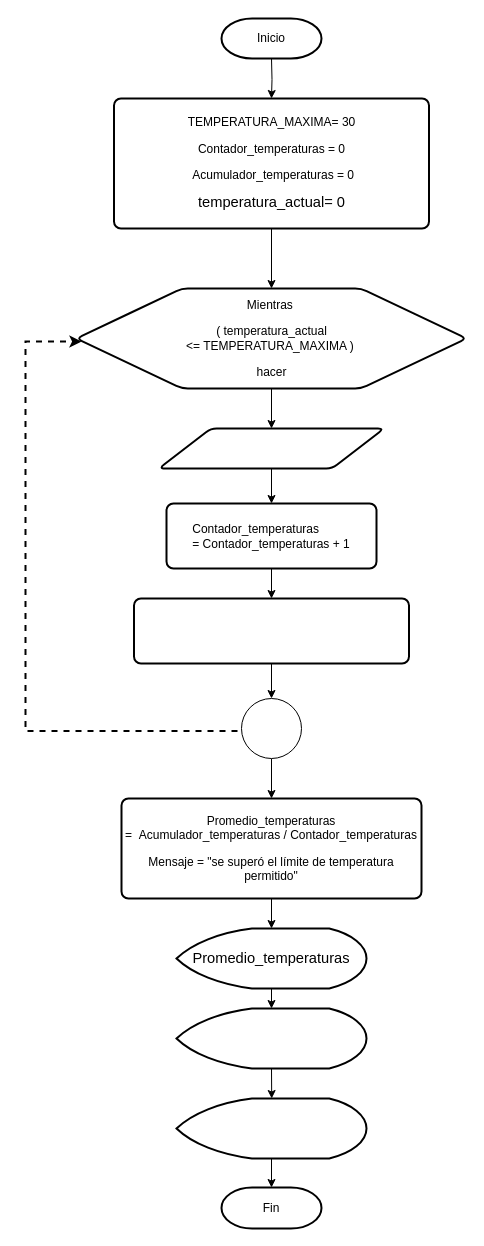
Image size: 484x1246. Some labels were removed from this diagram. Each missing label, with the centre of its shape:
"Acumulador_temperaturas = Acumulador_temperaturas + temperatura_actual" belongs at point (271, 630).
"Contador_temperaturas" belongs at point (271, 1038).
"Mensaje" belongs at point (271, 1128).
"temperatura_actual" belongs at point (271, 448).
